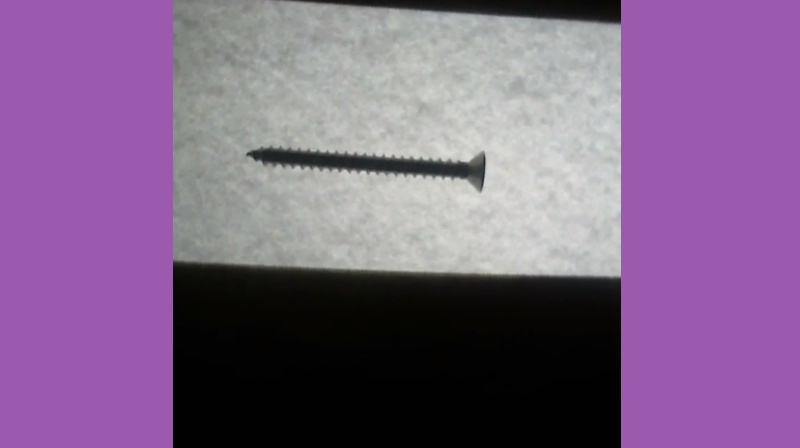S002: (241, 142, 489, 196)
